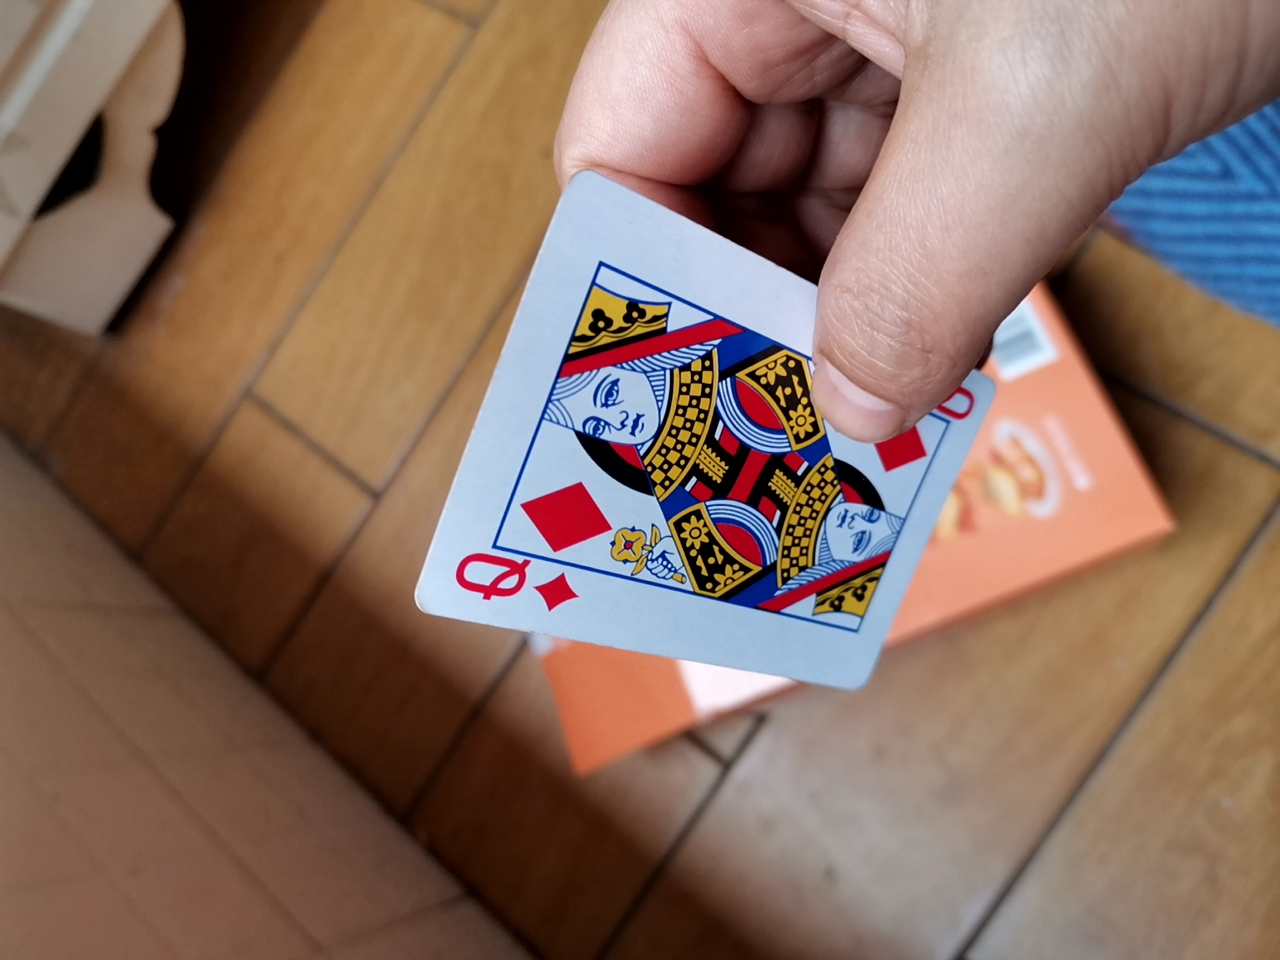fk q: (377, 167, 985, 716)
